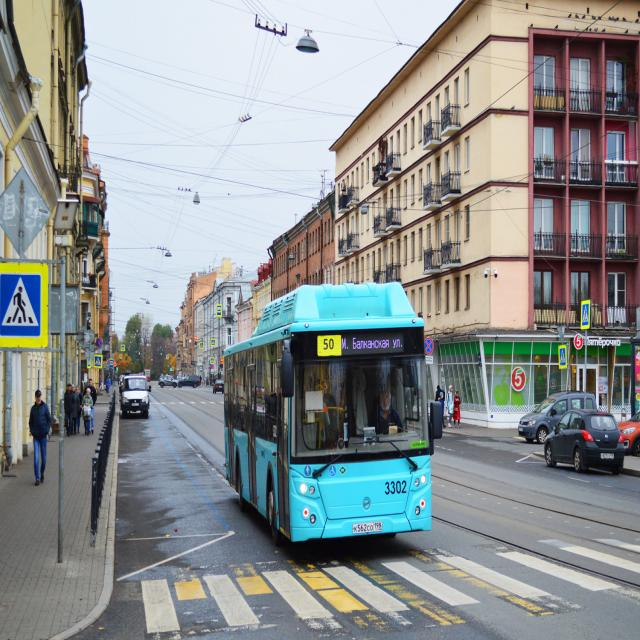number-of-bus: (322, 338, 337, 355)
